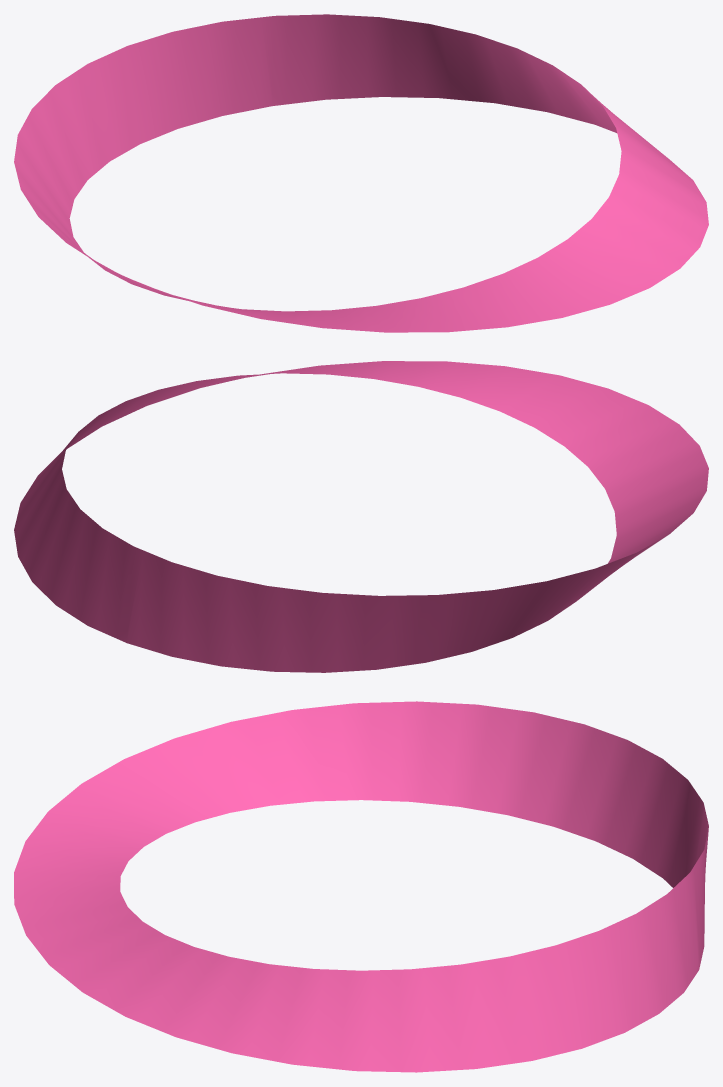
The model's file is MobiusStrip.dae.
3 renders of one model, top to bottom at view 1: azimuth 30°, elevation 25°; view 2: azimuth 150°, elevation 25°; view 3: azimuth 270°, elevation 25°, orthographic. The views are drawn at different scales.
Visible parts, largest first — view 1: SketchUp; view 2: SketchUp; view 3: SketchUp.
Part boxes in pixels (bbox=[...]): SketchUp: bbox=[14, 14, 708, 332]; SketchUp: bbox=[14, 361, 708, 672]; SketchUp: bbox=[14, 701, 708, 1072].
Size of the model in its own units: 53.51 by 51.97 by 8.
